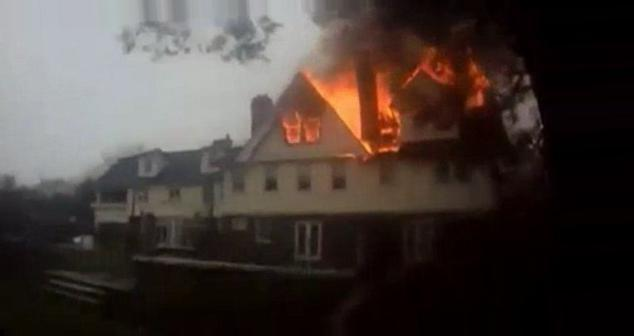fire: (289, 52, 490, 159)
